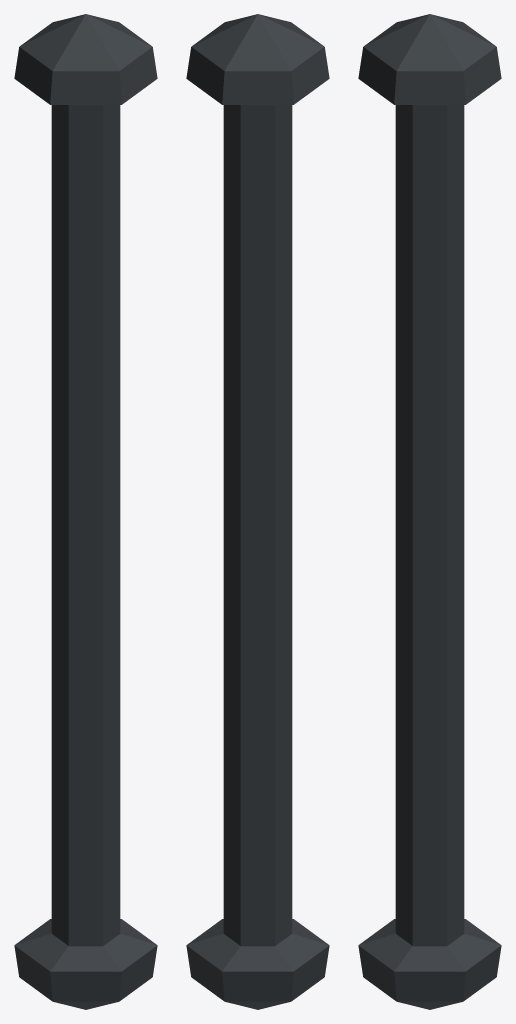
Rendered from prop_flag_pole.gltf.
The picture shows the model from 3 angles, left to right: view 1: azimuth 30°, elevation 25°; view 2: azimuth 150°, elevation 25°; view 3: azimuth 270°, elevation 25°; orthographic projection.
Visible parts, largest first — view 1: prop_flag_pole; view 2: prop_flag_pole; view 3: prop_flag_pole.
Boxes of the visible parts, x1,y1,x2,y2 form: prop_flag_pole: [14, 14, 157, 1009]; prop_flag_pole: [186, 14, 329, 1009]; prop_flag_pole: [358, 14, 501, 1009].
Bounding box in the file's own units: 0.2997 × 2.65 × 0.3461.
1 material, 1 textured.
